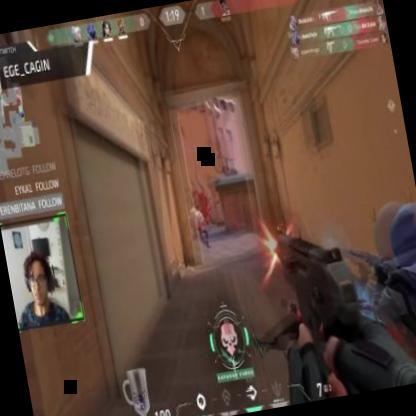enemy: (190, 202, 210, 248)
enemy_head: (194, 204, 204, 214)
